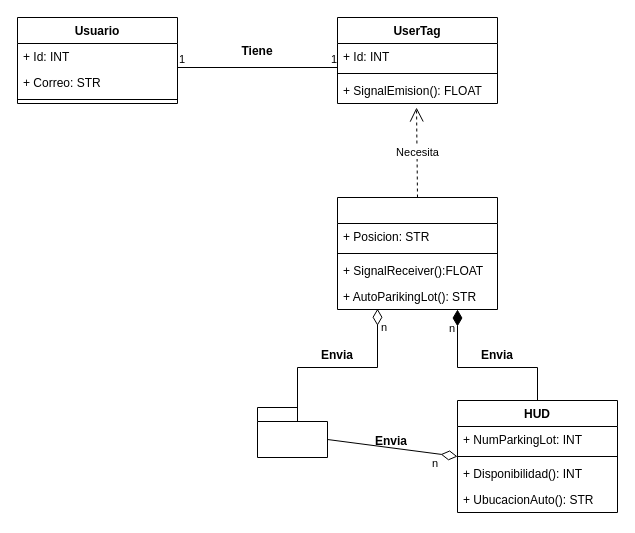
Image size: 635x533. Some labels were removed from this diagram. The shapes that lost their labels are listed below. From the top down, each one's box as (x1, y1, x2, y2) in pixels, then its label:
(336, 196, 498, 310): Receptor
(256, 406, 328, 458): DDBB
